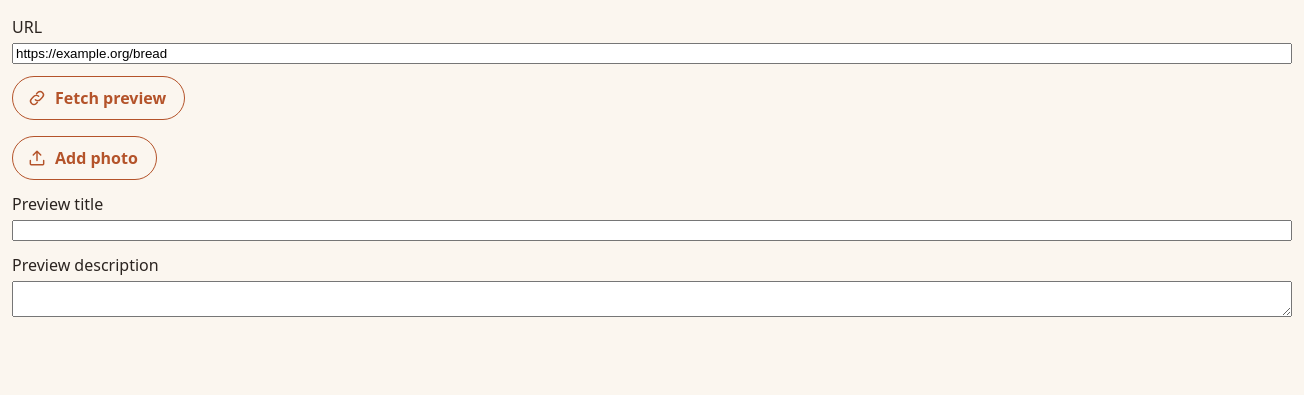
FetchPreview › fills the preview and the empty card title
Step 1. Click the button "Fetch preview" → (99, 98), box left=12, top=76, right=185, bottom=120
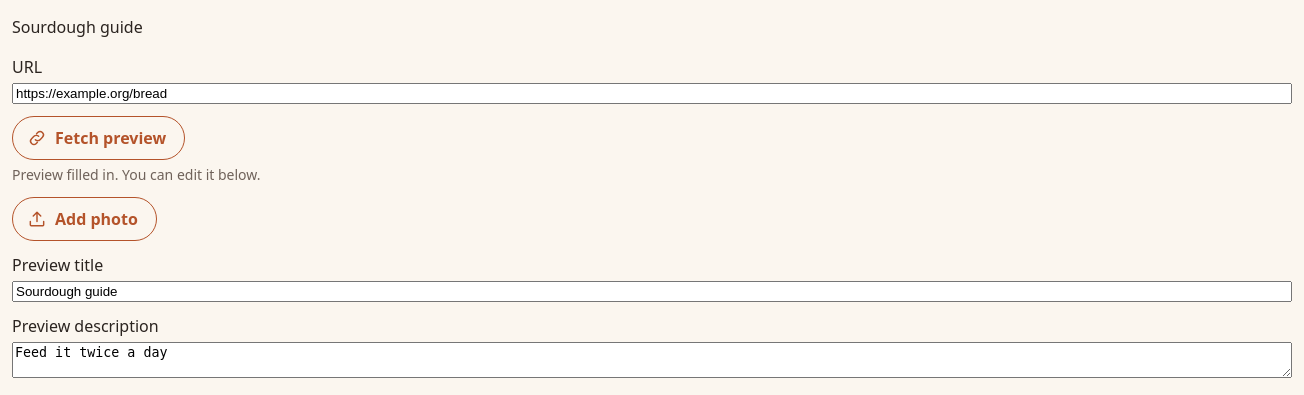
Check: the text "Preview filled in. You can edit it below." is shown, box left=12, top=165, right=260, bottom=184
Check: the field labelled "Preview title" holds "Sourdough guide", box left=12, top=281, right=1292, bottom=302
Check: the text with test id "title" reads "Sourdough guide", box left=12, top=16, right=143, bottom=38
